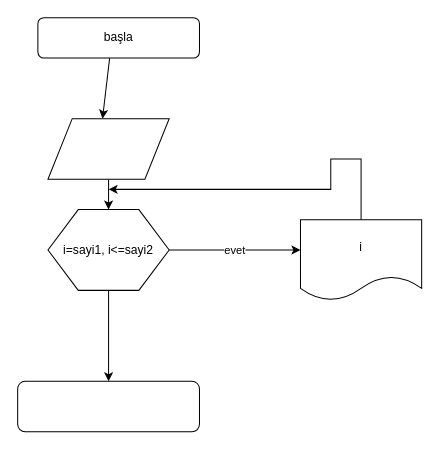
Image size: 439x449. Some labels were removed from this diagram. The box of each missing label's shape, as (x1, y1, x2, y2) in pixels:
bitir: (17, 380, 199, 432)
sayi1, sayi2: (47, 118, 169, 179)
